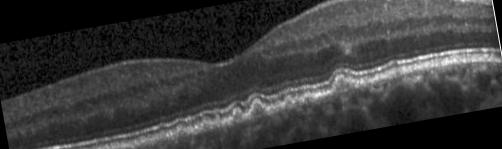retinal_drusen: (334, 76, 357, 93), (176, 122, 191, 139), (250, 101, 265, 116), (201, 116, 214, 130), (158, 128, 171, 142), (233, 110, 243, 123), (304, 94, 313, 102), (294, 97, 303, 105), (285, 98, 293, 106)
